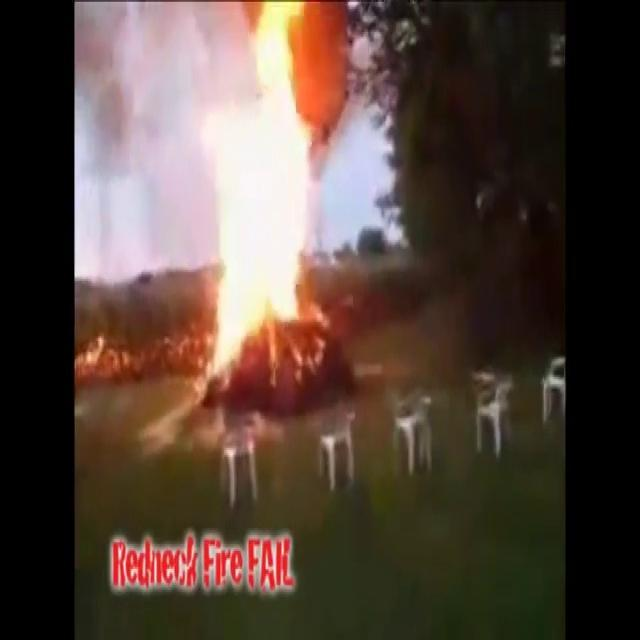Fire: (184, 2, 335, 384)
Smoke: (75, 2, 226, 264)
